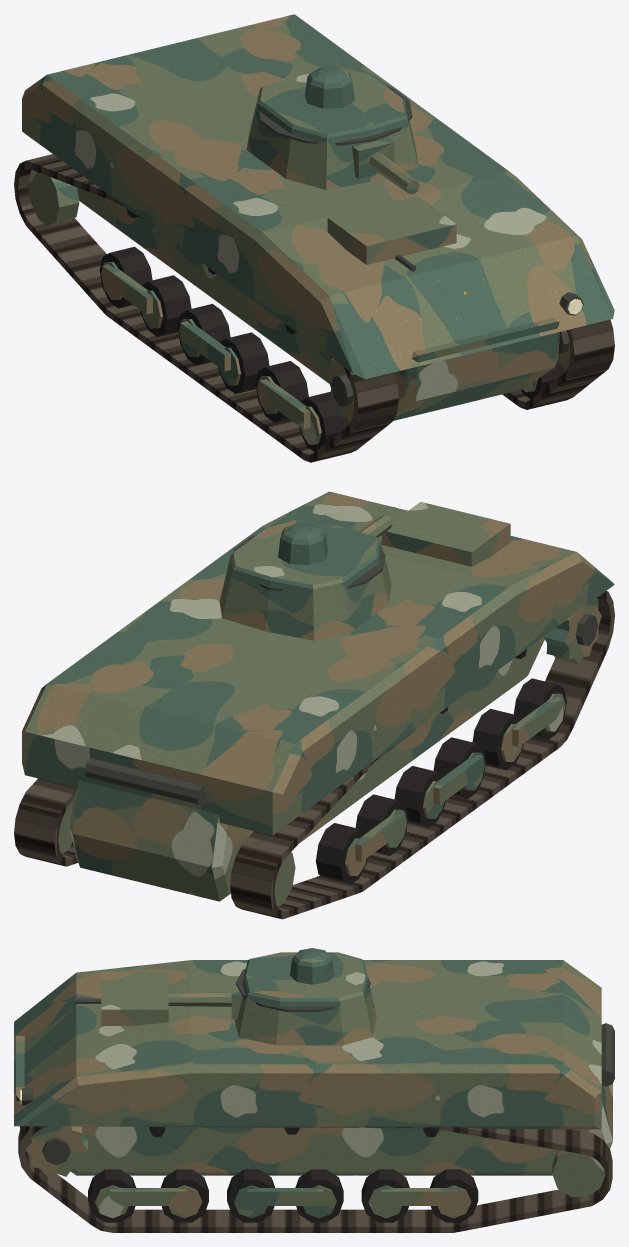
Rendered from armor-2.glb.
3 renders of one model, top to bottom at view 1: azimuth 30°, elevation 25°; view 2: azimuth 150°, elevation 25°; view 3: azimuth 270°, elevation 25°, orthographic. The views are drawn at different scales.
Visible parts, largest first — view 1: superstructure, caisse, tracks_right, tourelle, caisson_pilote, tracks_left, roue_folle_right_jante, galet_right_3_bandage, galet_right_5_bandage, galet_right_2_bandage, galet_right_4_bandage, galet_right_6_bandage (+9 smaller); view 2: superstructure, caisse, tracks_right, tourelle, caisson_pilote, tracks_left, echappement, galet_right_6_bandage, barbotin_right_couronne, galet_right_4_bandage, galet_right_2_bandage, galet_right_1_bandage (+8 smaller); view 3: superstructure, caisse, tracks_left, tourelle, caisson_pilote, roue_folle_left_jante, barbotin_left_couronne, bogie_left_1, bogie_left_2, bogie_left_3, galet_left_5_bandage, galet_left_6_bandage (+16 smaller).
Part boxes in pixels (x1,y1,x2,y2): superstructure: [22, 14, 614, 379]; caisse: [77, 187, 559, 420]; tracks_right: [14, 154, 398, 462]; tourelle: [246, 68, 418, 189]; caisson_pilote: [327, 196, 456, 264]; tracks_left: [502, 319, 614, 409]; roue_folle_right_jante: [28, 170, 79, 226]; galet_right_3_bandage: [218, 332, 269, 393]; galet_right_5_bandage: [140, 275, 191, 336]; galet_right_2_bandage: [255, 361, 308, 422]; galet_right_4_bandage: [177, 304, 230, 365]; galet_right_6_bandage: [99, 246, 152, 308]; superstructure: [22, 491, 614, 835]; caisse: [69, 637, 544, 901]; tracks_right: [230, 591, 614, 919]; tourelle: [219, 518, 391, 640]; caisson_pilote: [381, 501, 510, 566]; tracks_left: [14, 778, 77, 866]; echappement: [84, 758, 204, 804]; galet_right_6_bandage: [315, 823, 367, 884]; barbotin_right_couronne: [543, 598, 601, 664]; galet_right_4_bandage: [394, 766, 445, 827]; galet_right_2_bandage: [472, 708, 523, 770]; galet_right_1_bandage: [513, 678, 566, 739]; superstructure: [14, 960, 601, 1129]; caisse: [16, 1036, 612, 1175]; tracks_left: [18, 1126, 612, 1232]; tourelle: [234, 952, 376, 1045]; caisson_pilote: [101, 971, 168, 1025]; roue_folle_left_jante: [552, 1150, 605, 1196]; barbotin_left_couronne: [26, 1126, 87, 1176]; bogie_left_1: [110, 1188, 186, 1205]; bogie_left_2: [247, 1188, 323, 1205]; bogie_left_3: [381, 1188, 457, 1205]; galet_left_5_bandage: [361, 1169, 409, 1222]; galet_left_6_bandage: [430, 1169, 478, 1222].
Size of the model in its own units: 1.17 by 1.14 by 2.68.
Materials: 9 (5 with a texture image).
